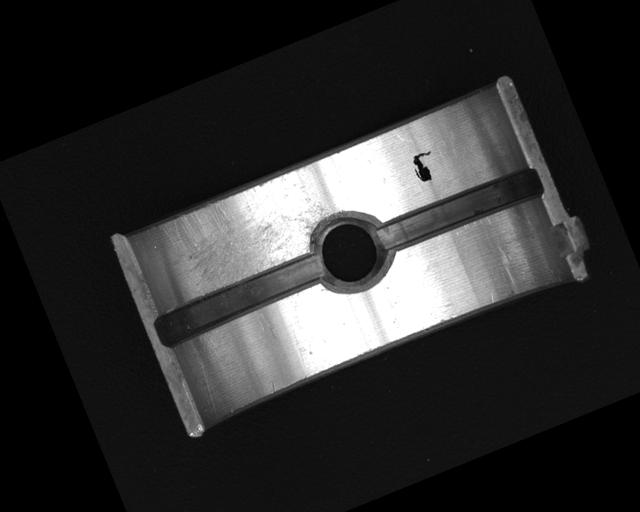blot: (408, 147, 440, 185)
gap: (149, 249, 329, 350), (374, 162, 545, 257)
hole: (300, 200, 399, 298)
nick: (493, 243, 522, 292)
scratch: (154, 162, 344, 302)
